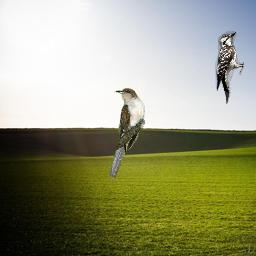Cuckoo: (109, 88, 145, 178)
Woodpecker: (214, 30, 244, 105)
